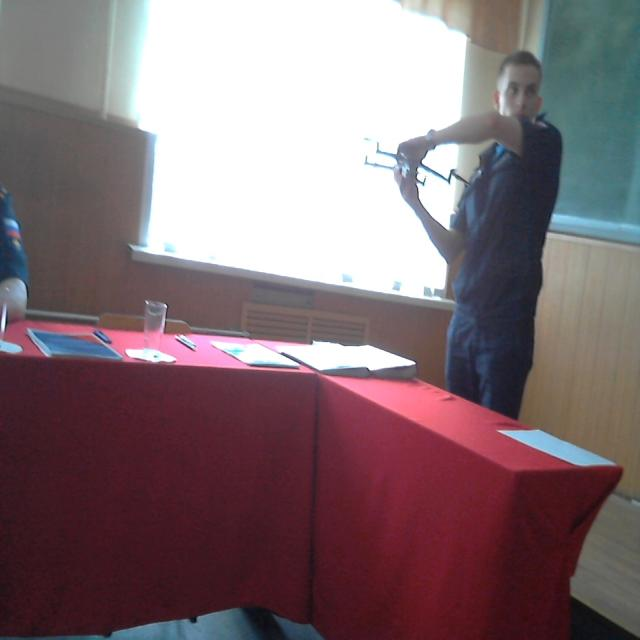drone: (355, 123, 459, 204)
